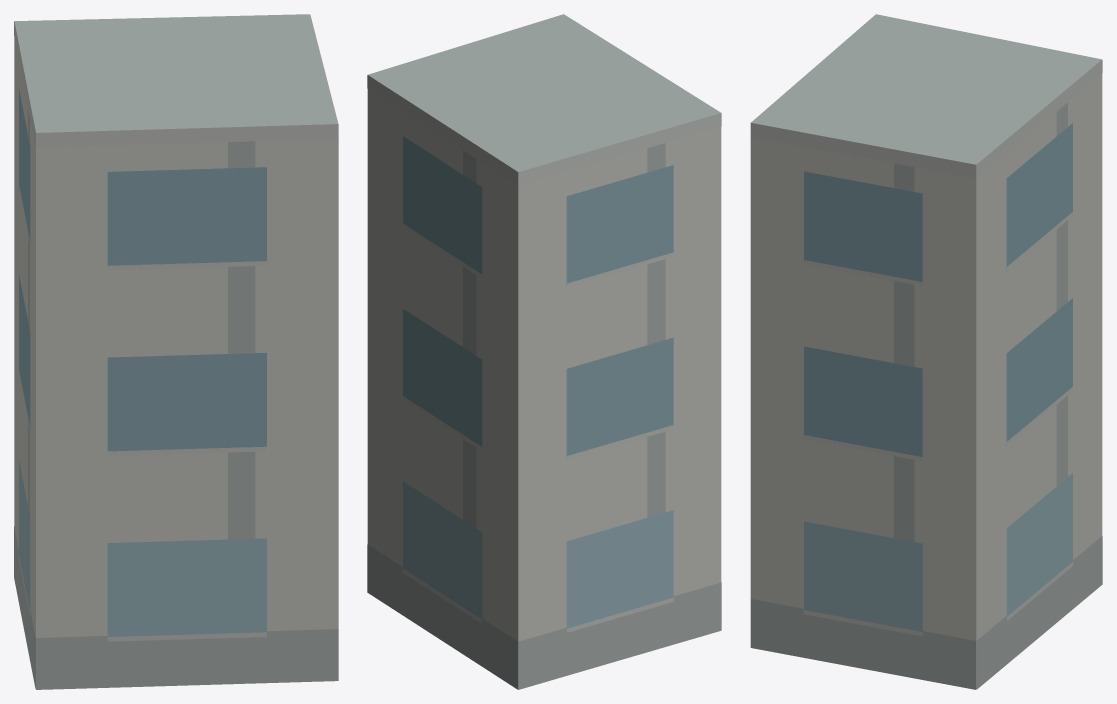
File: survey-upis-32741535.glb
3 views of the same model, side by side, from view 1: azimuth 30°, elevation 25°; view 2: azimuth 150°, elevation 25°; view 3: azimuth 270°, elevation 25° (orthographic). The views are drawn at different scales.
Parts seen in each view (by area): view 1: survey-upis-32741535.tmp; view 2: survey-upis-32741535.tmp; view 3: survey-upis-32741535.tmp.
Boxes of the visible parts, x1,y1,x2,y2 form: survey-upis-32741535.tmp: (14, 14, 338, 689); survey-upis-32741535.tmp: (367, 14, 721, 689); survey-upis-32741535.tmp: (750, 14, 1102, 689).
Size of the model in its own units: 5.64 by 9.15 by 5.56.
